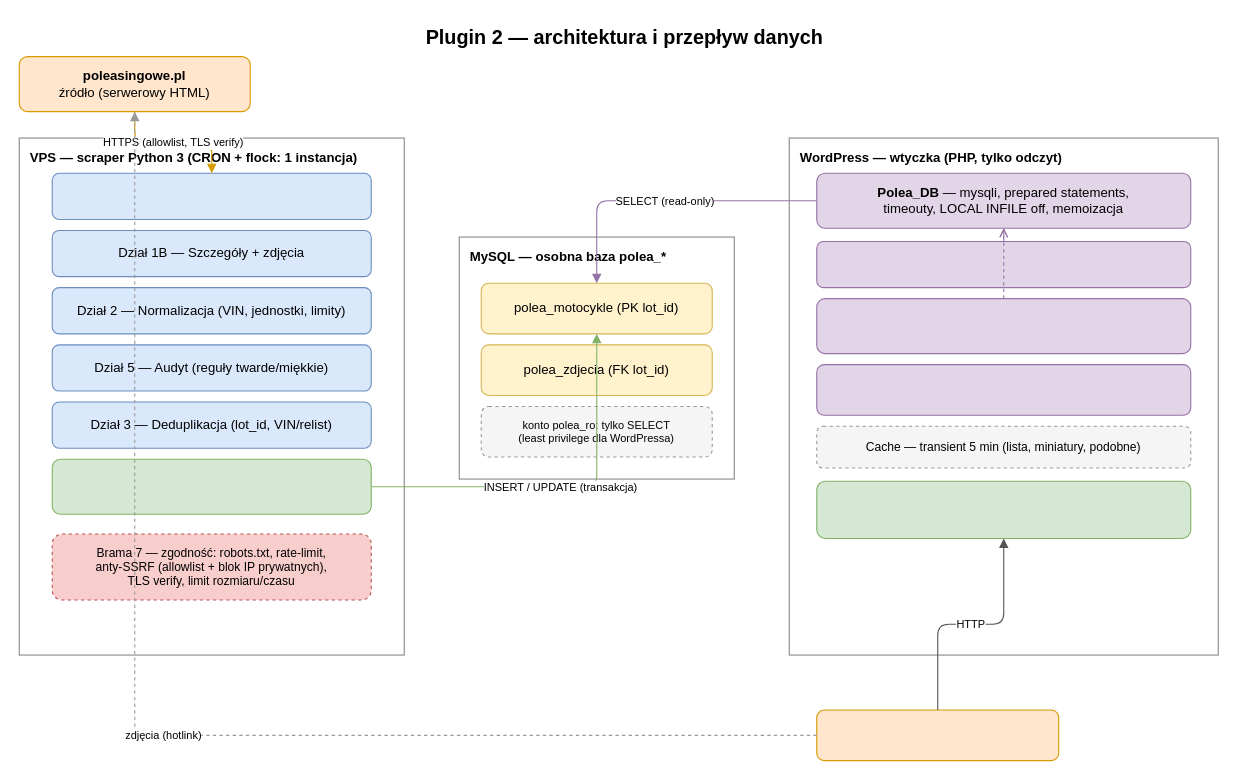
Image size: 1238x780. Some labels were removed from this diagram. Each missing label, with the centre of its shape:
admin.php — status bazy + czyszczenie cache (nonce + capability): point (1003, 389)
Dział 1A — Lista (crawl, paginacja): point (211, 195)
Dział 4 — Synchronizacja upsert + reconcile (próg bezpieczeństwa): point (211, 486)
Podstrona „Nasze motory” siatka + filtry + szczegóły (semantyczny HTML): point (1003, 509)
Przeglądarka użytkownika: point (937, 735)
seo.php — title/meta/OG/Twitter, JSON-LD, canonical, ładne URL-e, sitemap: point (1003, 326)
shortcode [motocykle] — lista + szczegóły: point (1003, 264)
